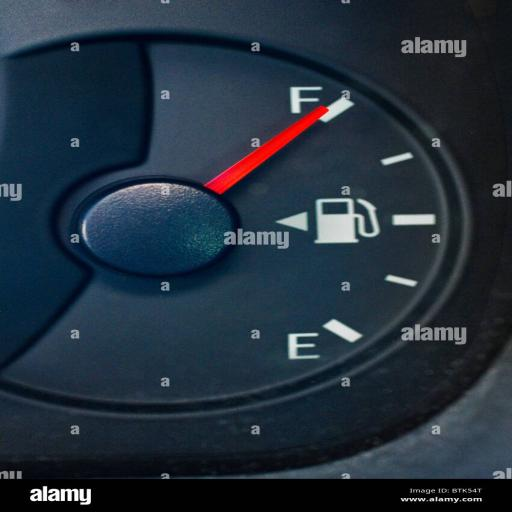empty: (279, 326, 326, 362)
fuel_icon: (310, 192, 384, 253)
full: (279, 77, 325, 115)
guage_area: (3, 5, 512, 474)
needle_center: (58, 175, 255, 282)
needle_tip: (301, 103, 336, 129)
